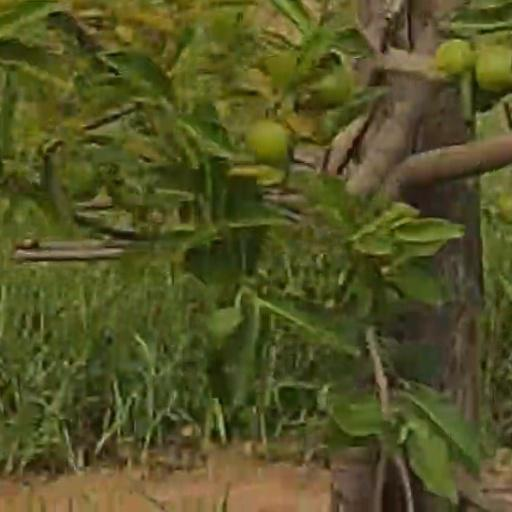acerola_verde: (476, 44, 510, 91), (249, 122, 286, 160), (437, 41, 473, 72)
